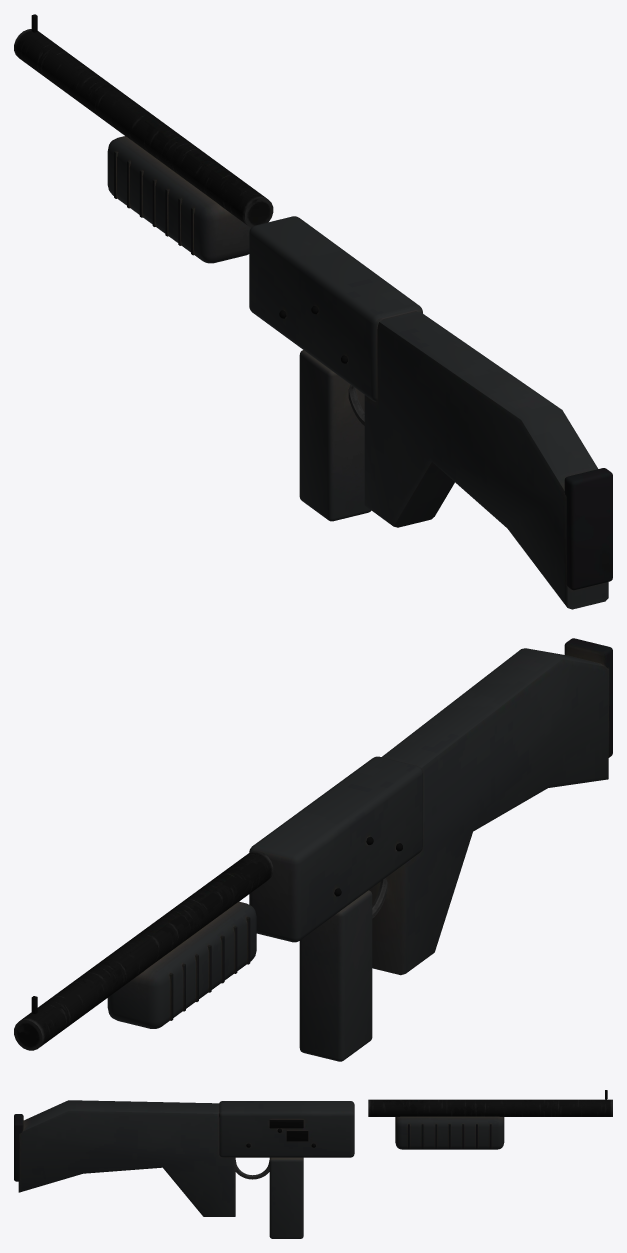
File: mag7.glb
The picture shows the model from 3 angles, top to bottom: view 1: azimuth 30°, elevation 25°; view 2: azimuth 150°, elevation 25°; view 3: azimuth 270°, elevation 25°; orthographic projection. The views are drawn at different scales.
Parts seen in each view (by area): view 1: body_furniture, body_receiver, mag_furniture, pump_furniture, body_metal, pump_metal; view 2: body_furniture, body_receiver, mag_furniture, pump_furniture, body_metal, pump_metal; view 3: body_furniture, body_receiver, pump_furniture, mag_furniture, body_metal, pump_metal.
Part boxes in pixels (box(x1,y1,x2,y2)): body_furniture: box(249, 216, 608, 609); body_receiver: box(14, 29, 364, 425); mag_furniture: box(299, 350, 371, 521); pump_furniture: box(107, 136, 250, 263); body_metal: box(31, 14, 612, 590); pump_metal: box(114, 151, 194, 255); body_furniture: box(249, 648, 608, 975); body_receiver: box(14, 851, 387, 1050); mag_furniture: box(299, 890, 372, 1061); pump_furniture: box(107, 901, 256, 1028); body_metal: box(31, 638, 612, 1013); pump_metal: box(169, 916, 250, 1020); body_furniture: box(18, 1100, 354, 1216); body_receiver: box(235, 1099, 612, 1179); pump_furniture: box(395, 1116, 504, 1149); mag_furniture: box(269, 1157, 303, 1238); body_metal: box(14, 1090, 607, 1181); pump_metal: box(408, 1123, 491, 1148).
Size of the model in its own units: 0.0552 by 0.233 by 0.881.
6 materials, 6 textured.
